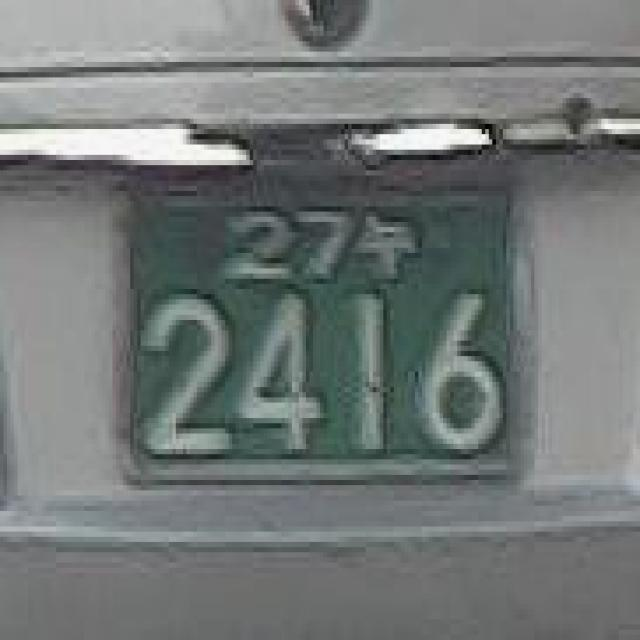illegal_plate: (107, 160, 540, 508)
